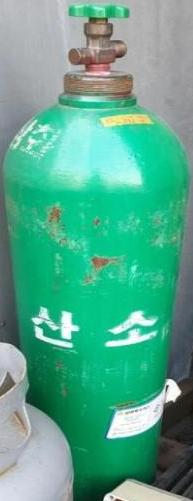cylinder: (1, 1, 193, 501)
